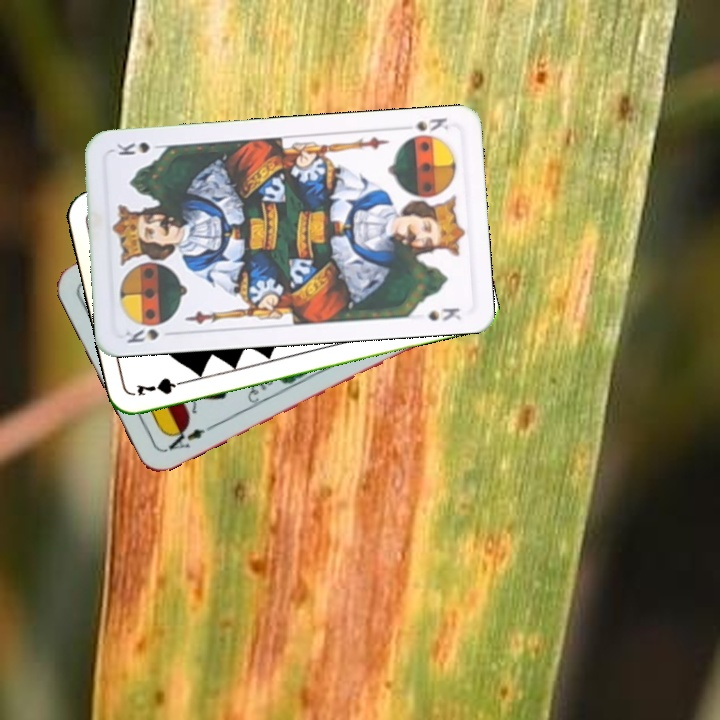EA: (162, 420, 217, 454)
G7: (132, 373, 192, 399)
SK: (121, 318, 173, 346), (410, 114, 455, 134)
